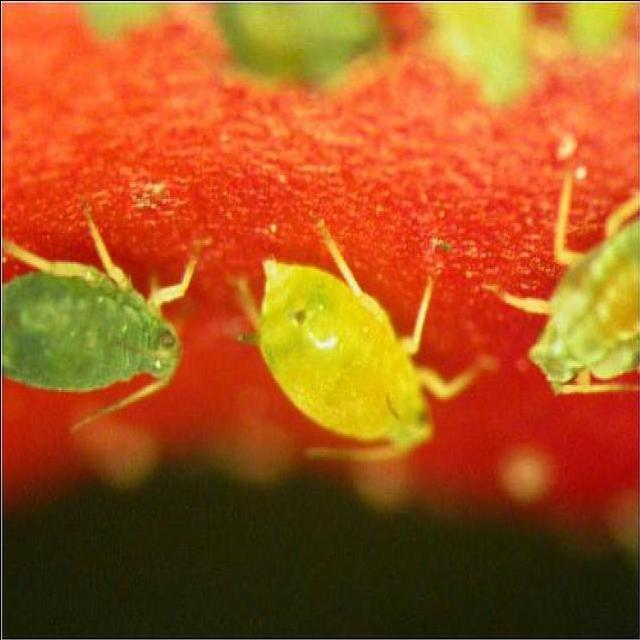aphid: (238, 227, 461, 464), (12, 248, 208, 418)
